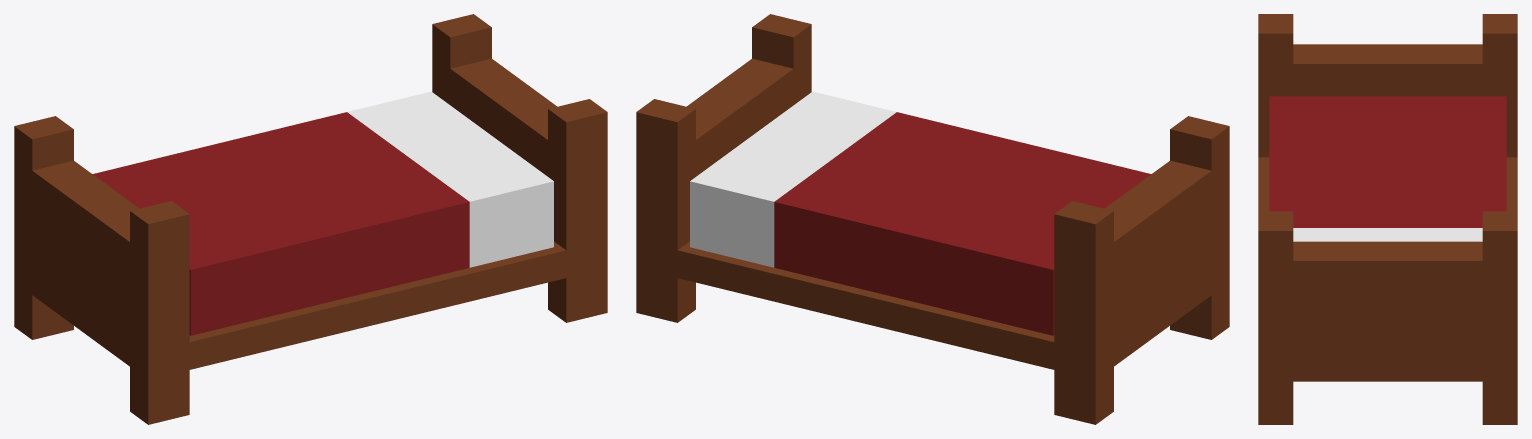
Rendered from Bed.glb.
3 views of the same model, side by side, from view 1: azimuth 30°, elevation 25°; view 2: azimuth 150°, elevation 25°; view 3: azimuth 270°, elevation 25° (orthographic). The views are drawn at different scales.
Parts seen in each view (by area): view 1: Mattress, Frame, Legs; view 2: Mattress, Frame, Legs; view 3: Frame, Mattress, Legs.
Boxes of the visible parts, <box> form: Mattress: <box>92,91,553,335</box>; Frame: <box>14,14,607,379</box>; Legs: <box>14,268,607,424</box>; Mattress: <box>690,91,1151,335</box>; Frame: <box>636,14,1229,379</box>; Legs: <box>636,268,1229,424</box>; Frame: <box>1258,14,1517,381</box>; Mattress: <box>1269,96,1506,241</box>; Legs: <box>1258,381,1517,424</box>.
Bounding box in the file's own units: 1.27 × 0.5287 × 0.6405.
